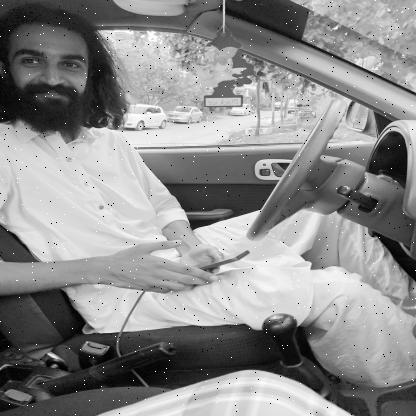no_seatbelt: (8, 0, 145, 272)
